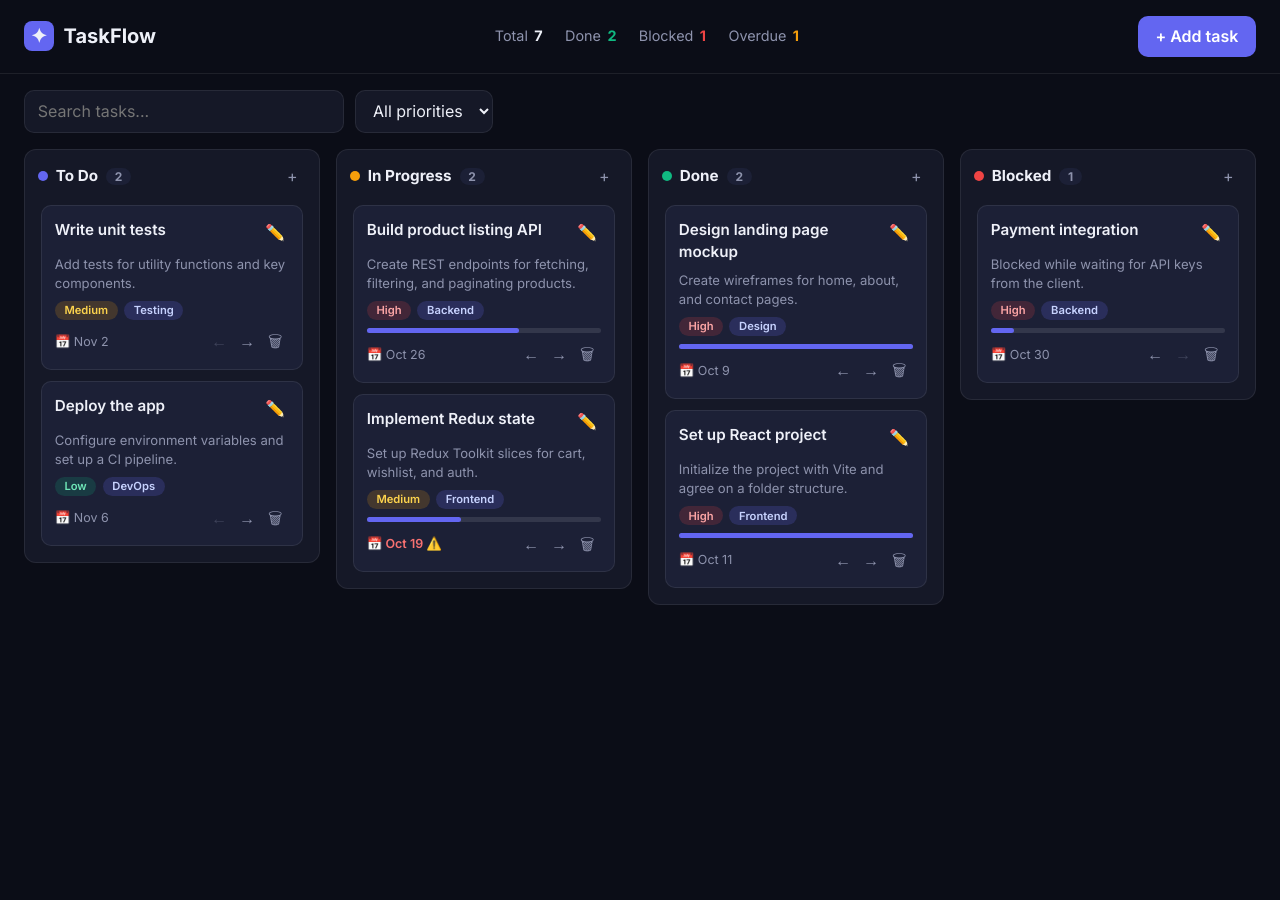
Test: TaskFlow board › renders task text as plain text instead of HTML
Click the button "+ Add task": (1197, 36) left=1138, top=16, right=1256, bottom=57
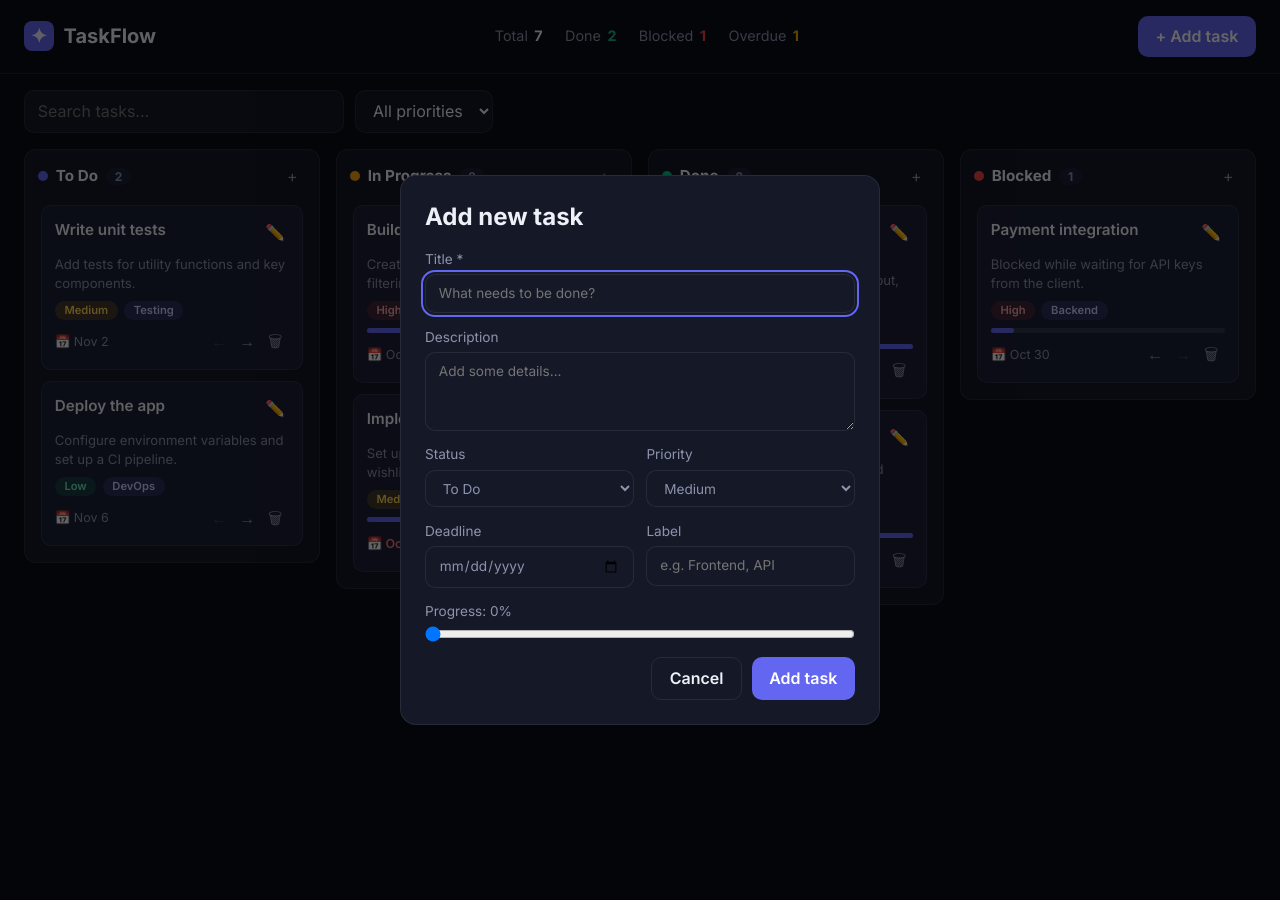
In the field labelled "Title *": (640, 294) left=425, top=274, right=855, bottom=313, type "<img src=x onerror=alert(1)>"
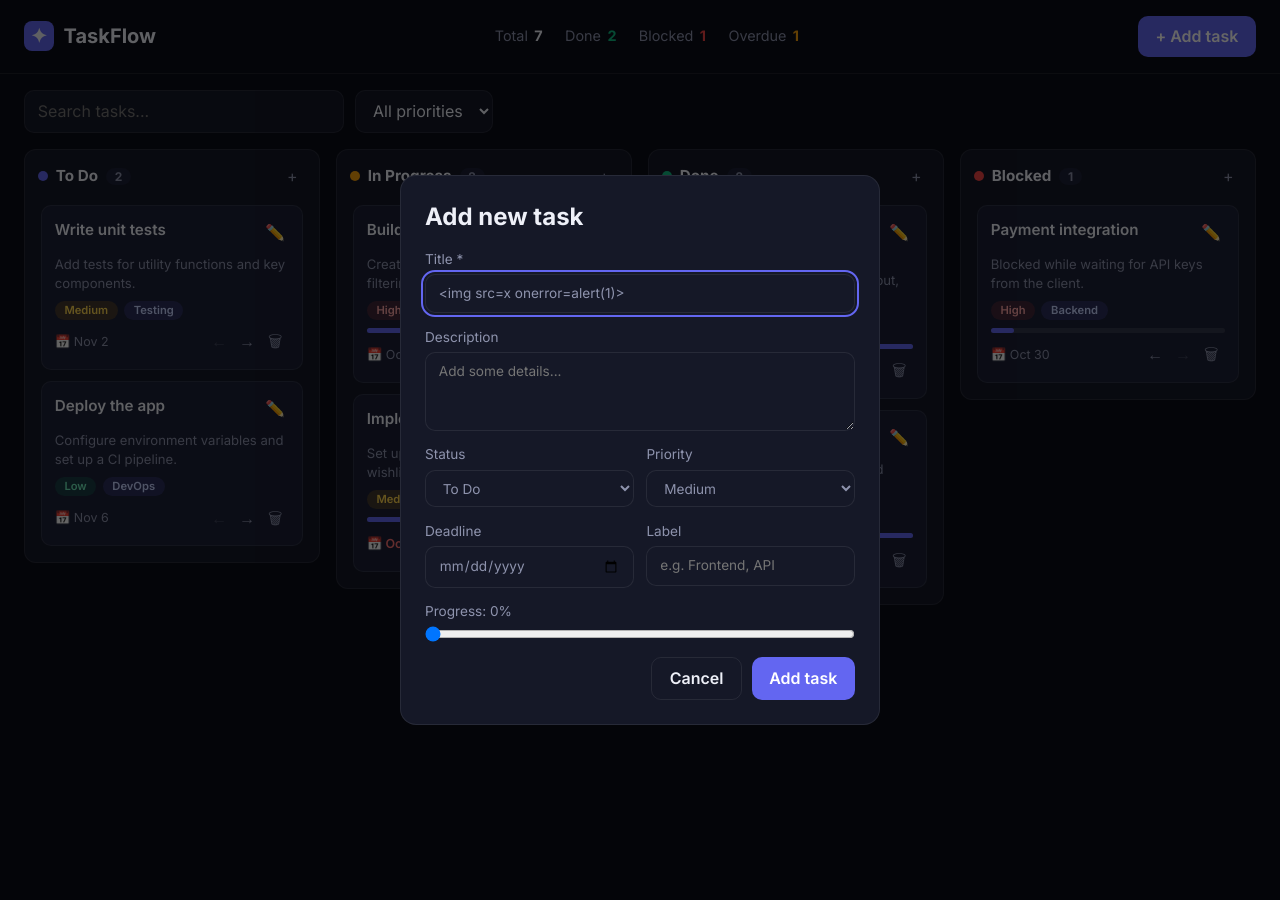
Click the button "Add task": (803, 678) left=752, top=657, right=855, bottom=700
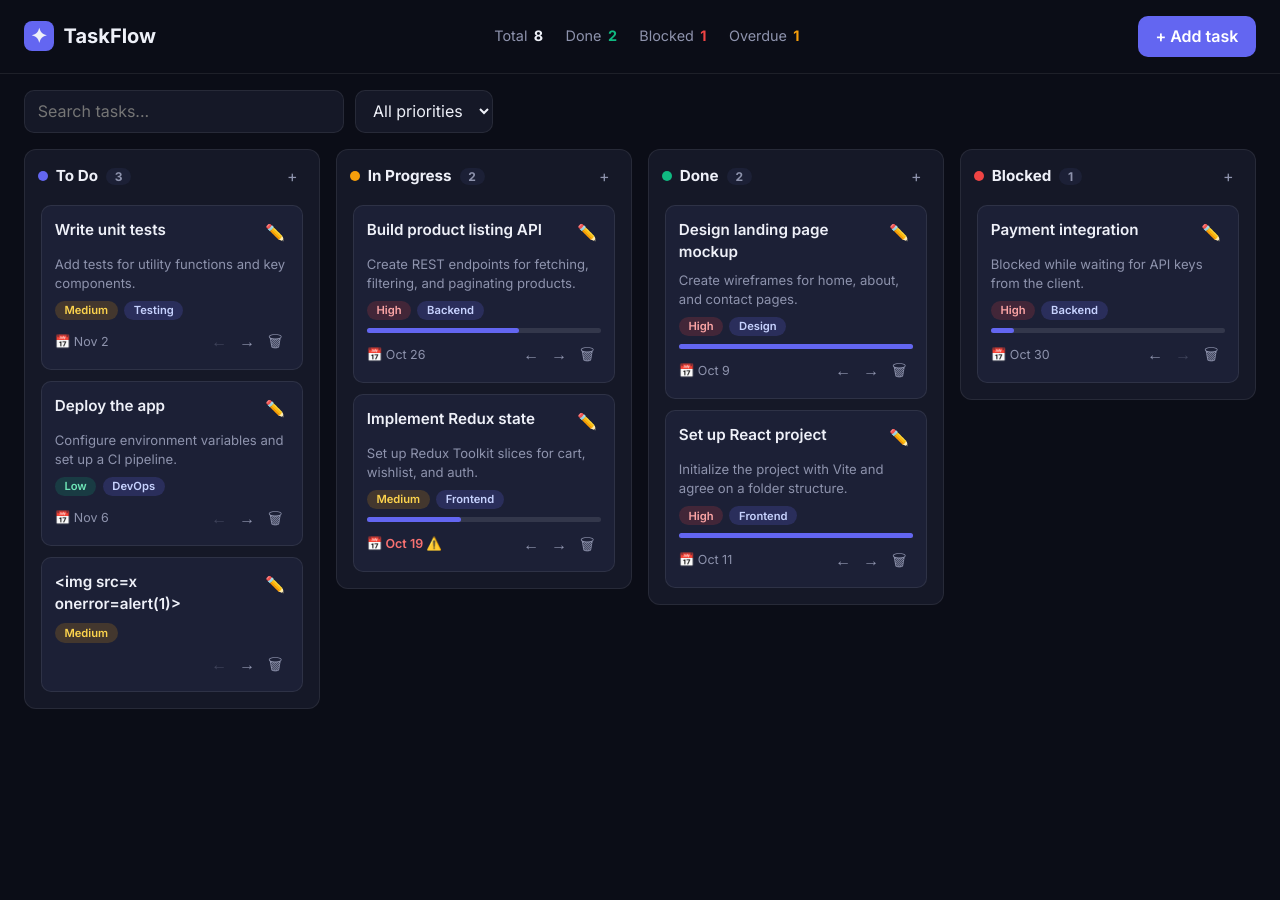
Now the heading "<img src=x onerror=alert(1)>" is shown, box left=55, top=572, right=181, bottom=613
